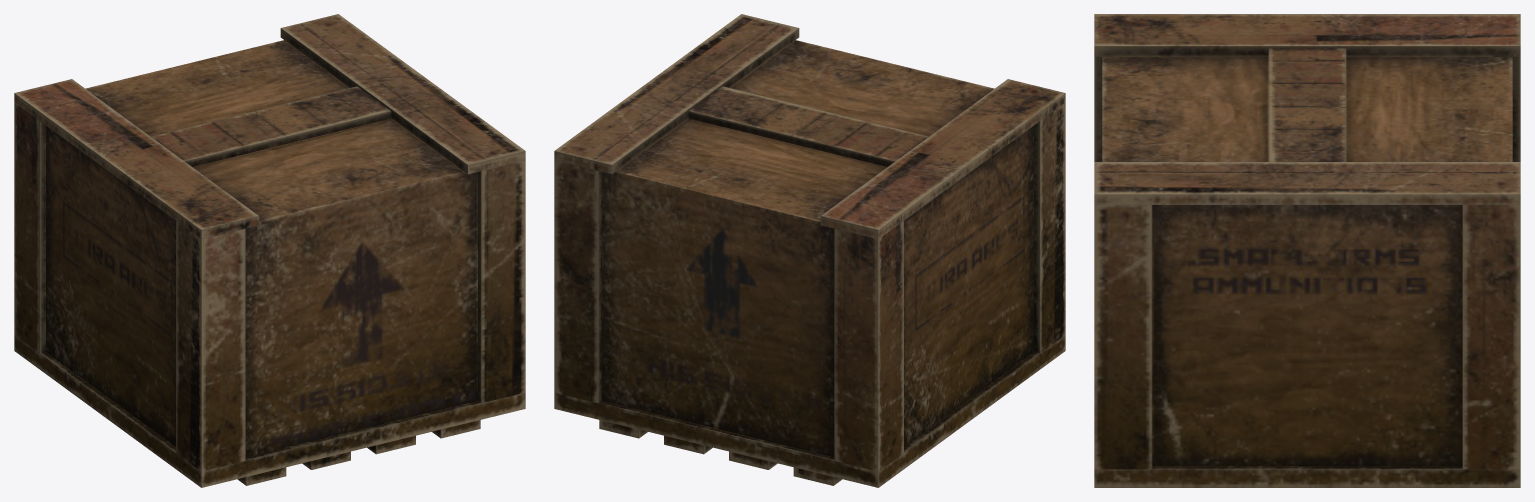
The model's file is SupplyCrate_01.FBX.
3 renders of one model, left to right at view 1: azimuth 30°, elevation 25°; view 2: azimuth 150°, elevation 25°; view 3: azimuth 270°, elevation 25°, orthographic. The views are drawn at different scales.
Parts seen in each view (by area): view 1: SupplyCrate_01; view 2: SupplyCrate_01; view 3: SupplyCrate_01.
Boxes of the visible parts, <box> form: SupplyCrate_01: <box>14,14,525,487</box>; SupplyCrate_01: <box>554,14,1065,487</box>; SupplyCrate_01: <box>1094,14,1520,487</box>.
Bounding box in the file's own units: 41.54 × 32.69 × 41.54.
Materials: 1 (1 with a texture image).
